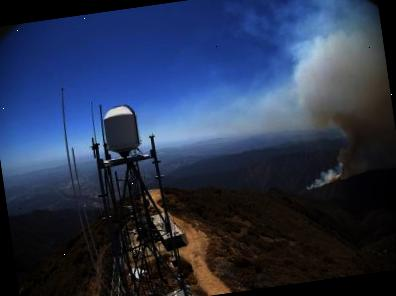smoke: (282, 15, 396, 191)
